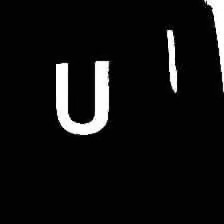LTR_U: (43, 49, 118, 145)
